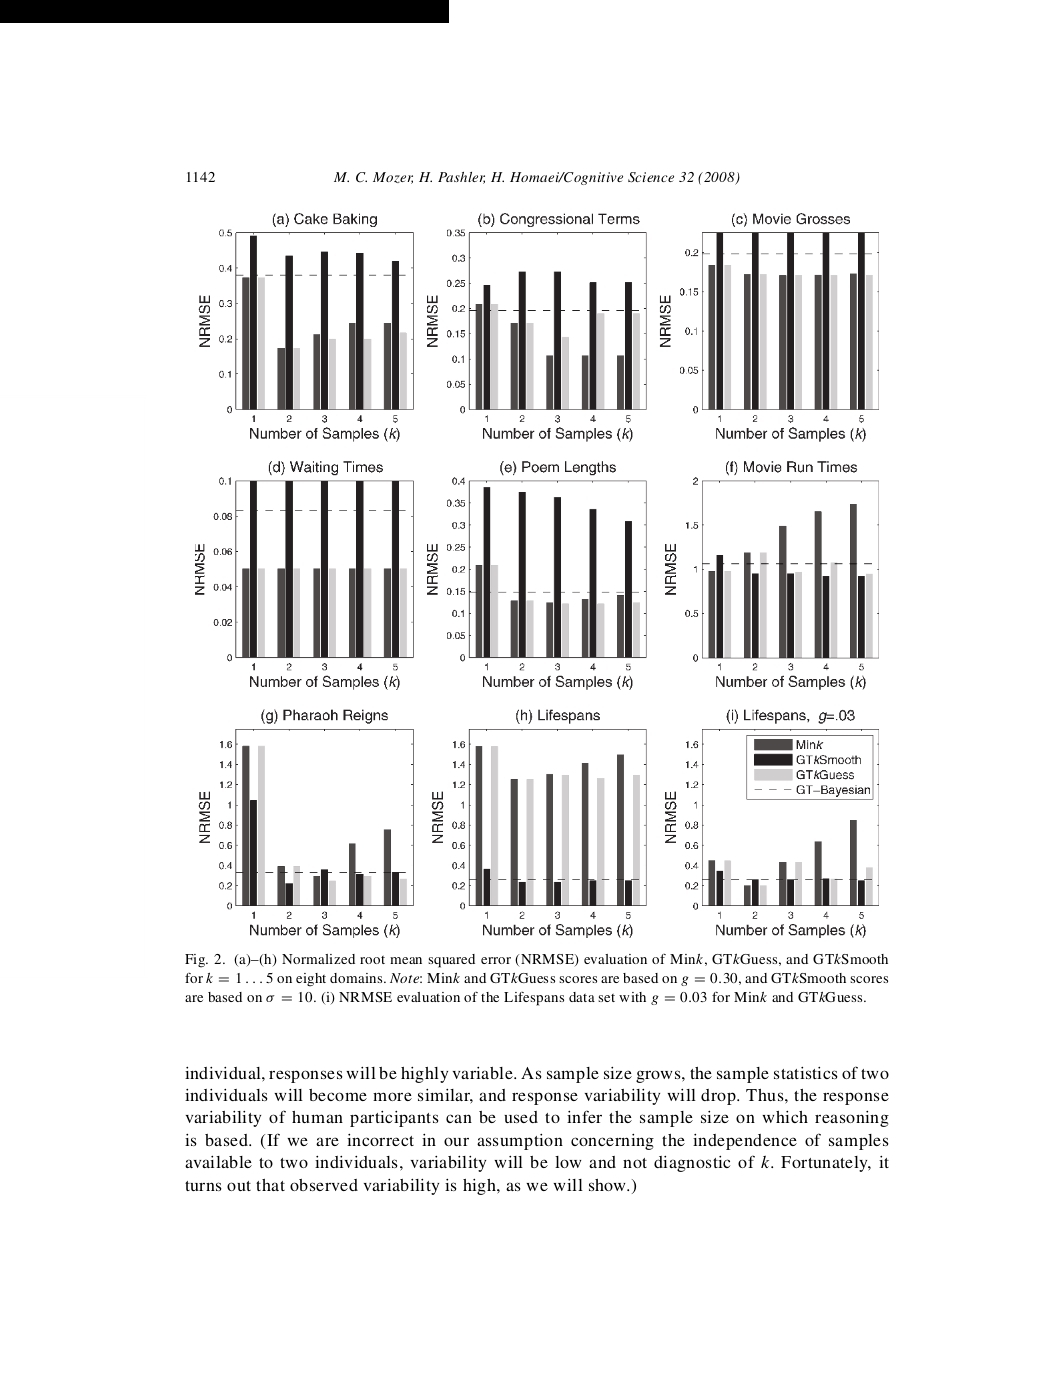figure: (427, 228, 646, 441), (427, 477, 646, 689), (195, 477, 413, 689), (198, 228, 413, 441), (660, 232, 878, 441), (198, 729, 413, 937), (431, 729, 646, 937), (665, 479, 878, 689), (665, 729, 878, 937)
